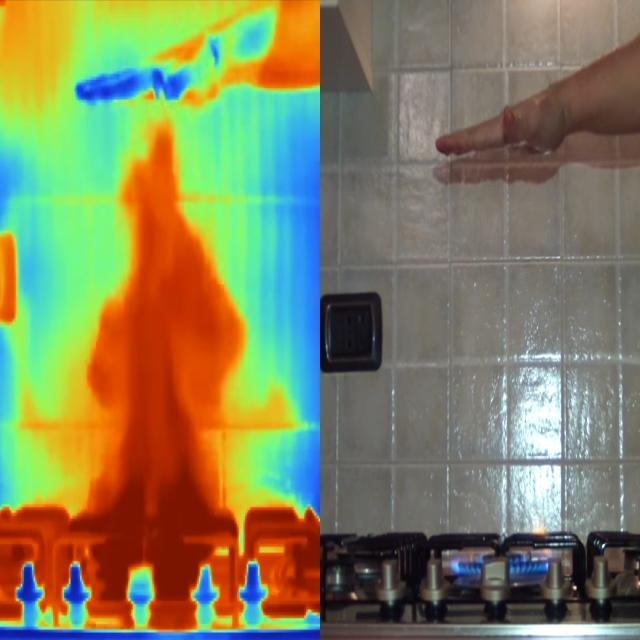fire: (84, 451, 220, 601)
